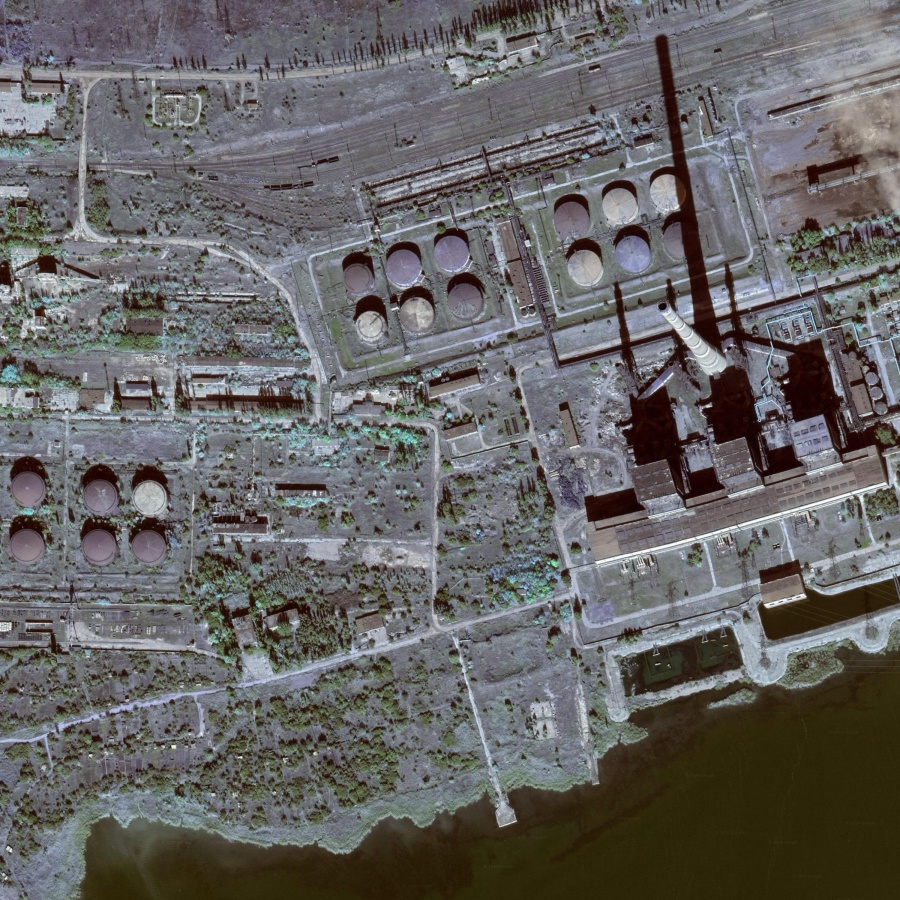PowerPlant: (304, 205, 512, 381)
